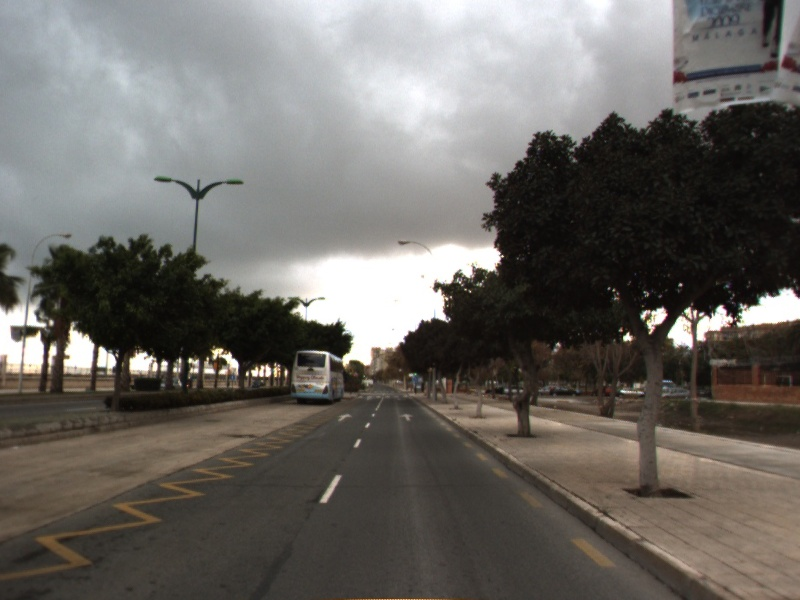STRAIGHT: (397, 411, 417, 423), (335, 412, 355, 423)
